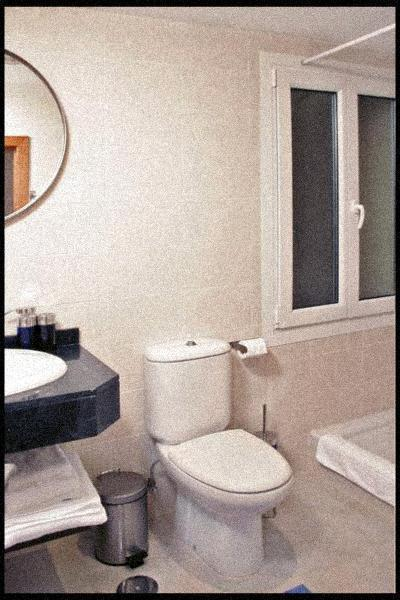Bote de Basura: (93, 465, 158, 571)
Lavamanos: (11, 341, 70, 399)
Sanitario: (144, 344, 292, 590)
